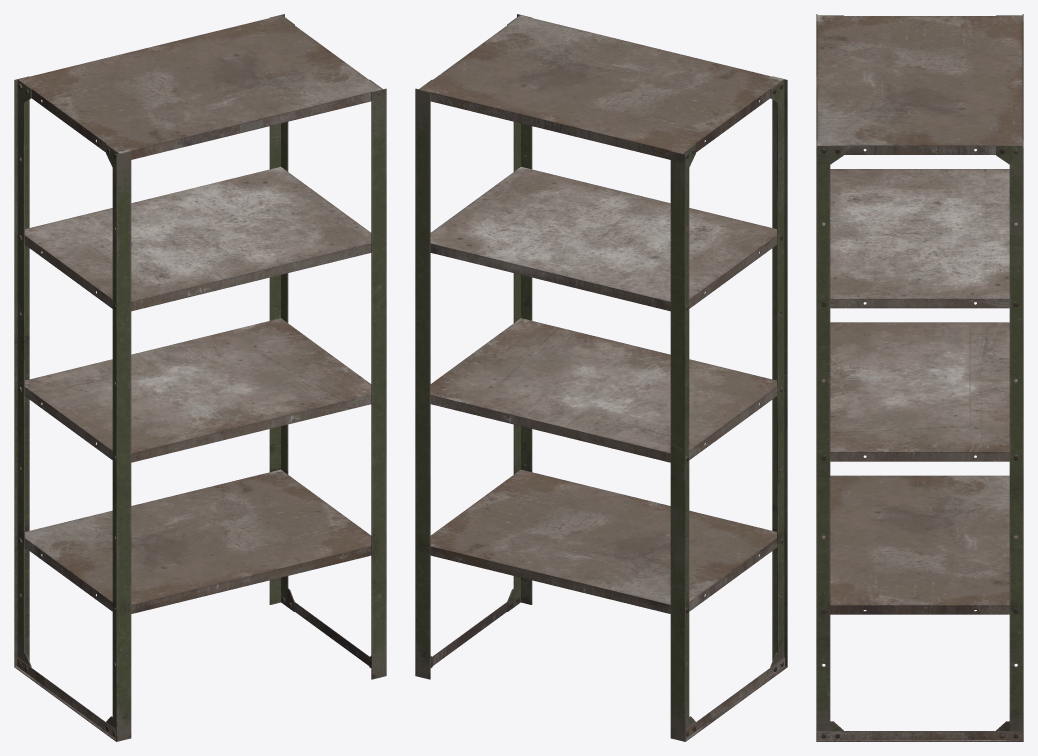
File: WornMetalRack.obj
3 renders of one model, left to right at view 1: azimuth 30°, elevation 25°; view 2: azimuth 150°, elevation 25°; view 3: azimuth 270°, elevation 25°, orthographic.
Parts seen in each view (by area): view 1: Rack; view 2: Rack; view 3: Rack.
Part boxes in pixels (x1,y1,x2,y2): Rack: (14, 14, 386, 741); Rack: (415, 14, 787, 741); Rack: (816, 14, 1023, 741).
Size of the model in its own units: 0.9154 by 1.9 by 0.6.
Materials: 1 (1 with a texture image).
